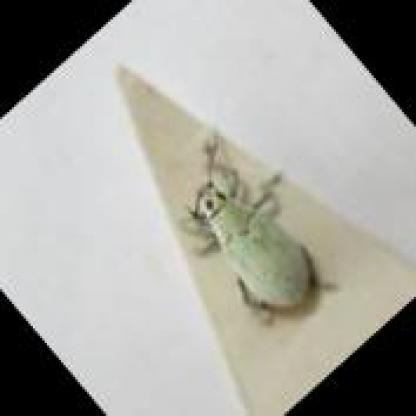ash weevil: (193, 165, 312, 310)
